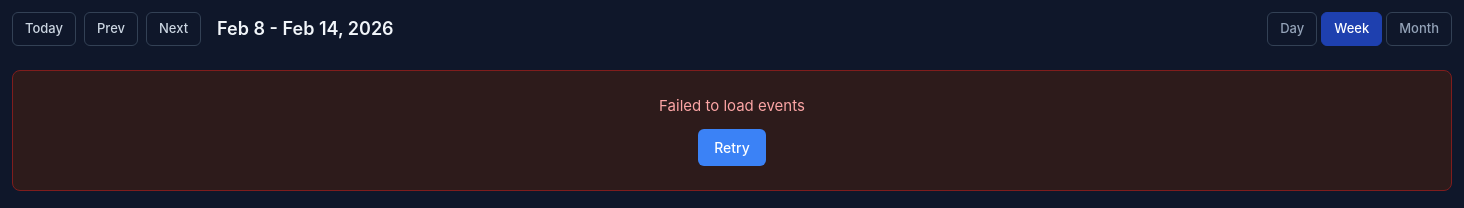
Test case: UnifiedCalendar › error state › retries fetch when retry button is clicked
This screenshot has width=1464, height=208.
Expected: the text "Failed to load events" is shown, [659,96,805,114]
Click the button "Retry" at (732, 148), box [698,129,766,166]
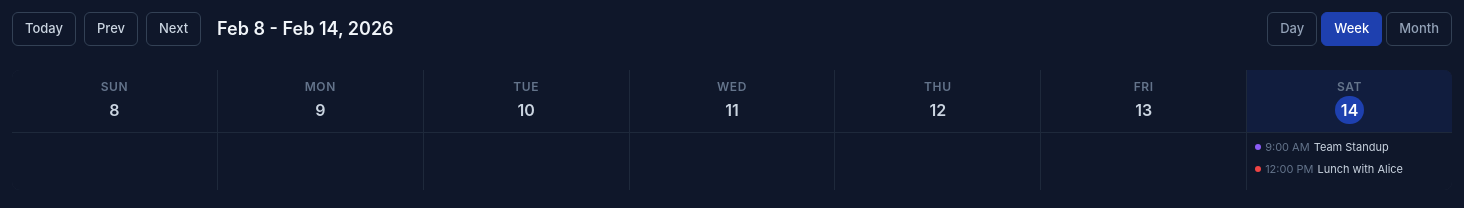
Expected: the text "Team Standup" is shown, [1314,138,1389,155]
